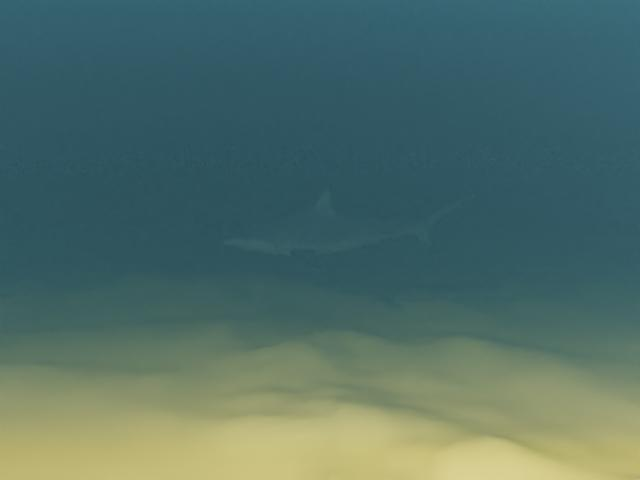Carribean Shark.001: (219, 185, 474, 270)
